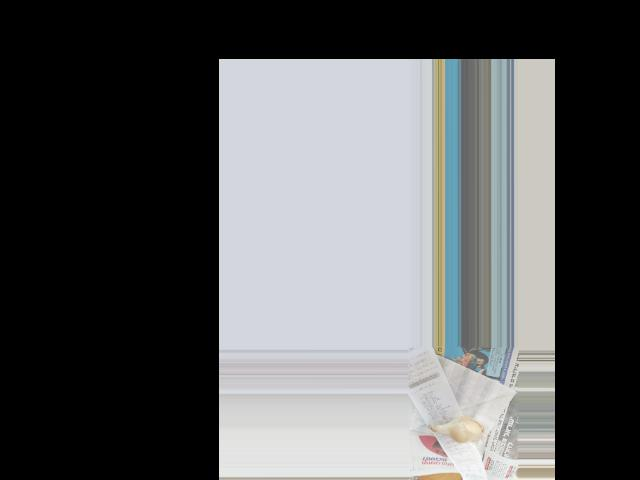onion: (432, 416, 480, 440)
